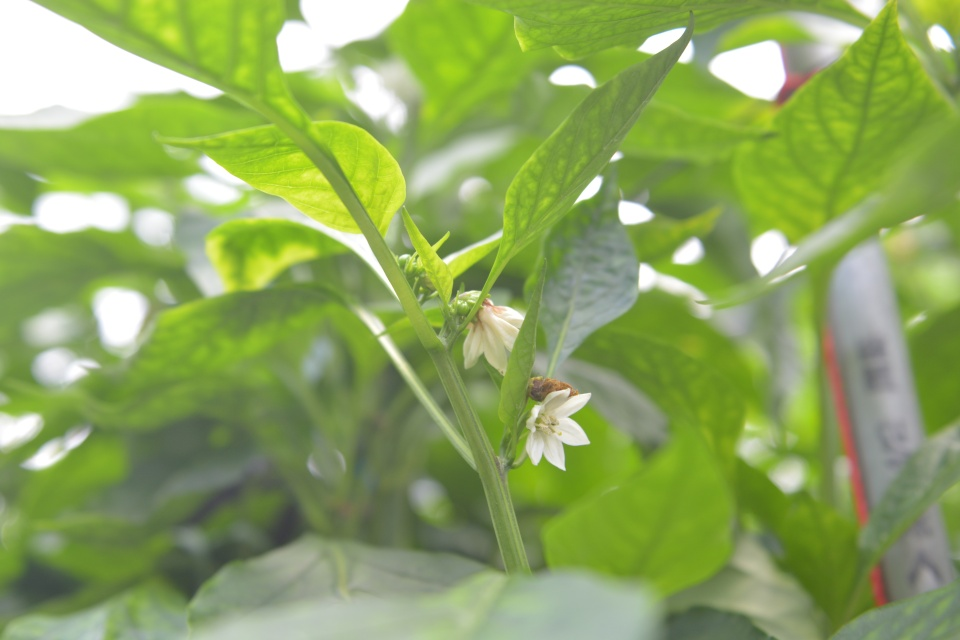flower: (524, 385, 597, 474), (458, 300, 527, 377)
